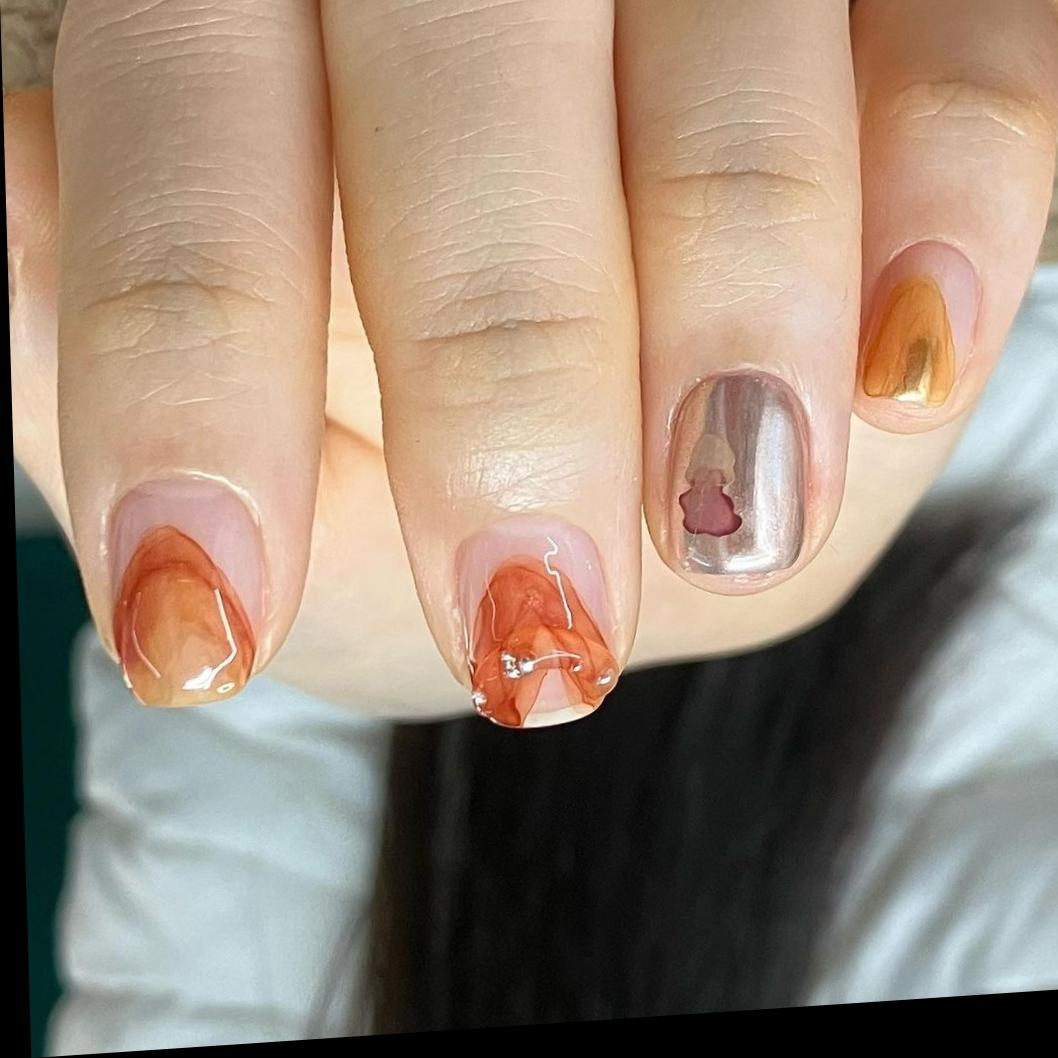nail: (661, 366, 813, 586), (857, 275, 958, 415)
